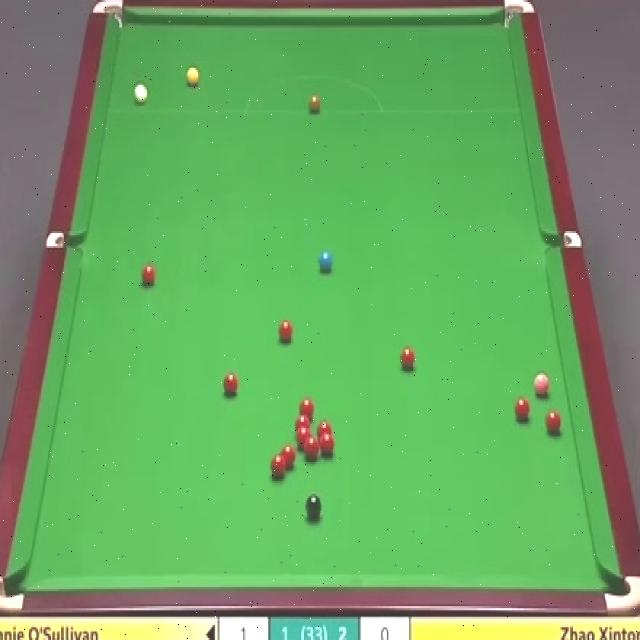black-ball: (305, 492, 322, 523)
blue-ball: (318, 249, 334, 272)
brown-ball: (308, 93, 321, 114)
pink-ball: (534, 371, 550, 398)
red-ball: (222, 370, 240, 400), (269, 454, 287, 480), (515, 397, 533, 422), (281, 447, 298, 472), (545, 411, 563, 434), (319, 433, 335, 458), (401, 346, 416, 372), (278, 321, 294, 344), (142, 264, 156, 288), (304, 436, 318, 460), (298, 398, 315, 415), (296, 428, 311, 447), (295, 414, 310, 431), (317, 422, 332, 437)
white-ball: (133, 80, 148, 108)
yellow-ball: (187, 67, 200, 89)
